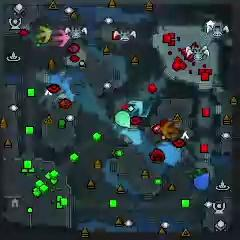p1: (193, 171, 211, 191)
p2: (115, 110, 131, 128)
x1: (52, 28, 71, 47)
x2: (36, 25, 53, 44)
x3: (129, 100, 144, 115)
x5: (160, 121, 180, 140)
